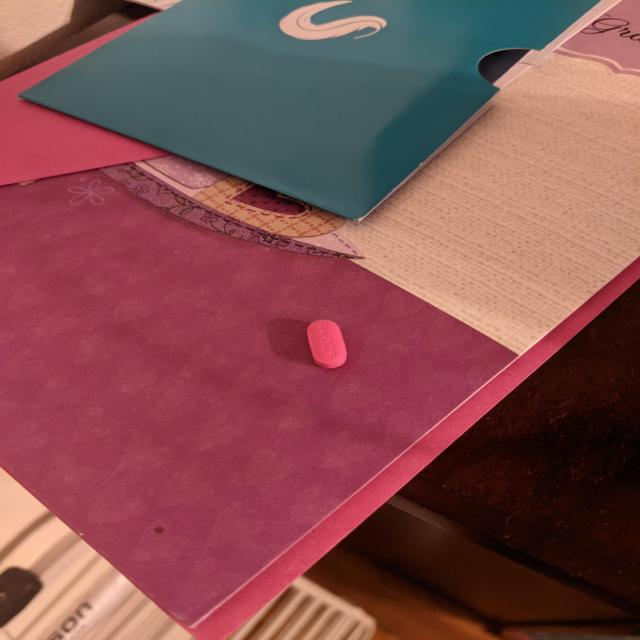non-organic waste: (306, 319, 348, 369)
